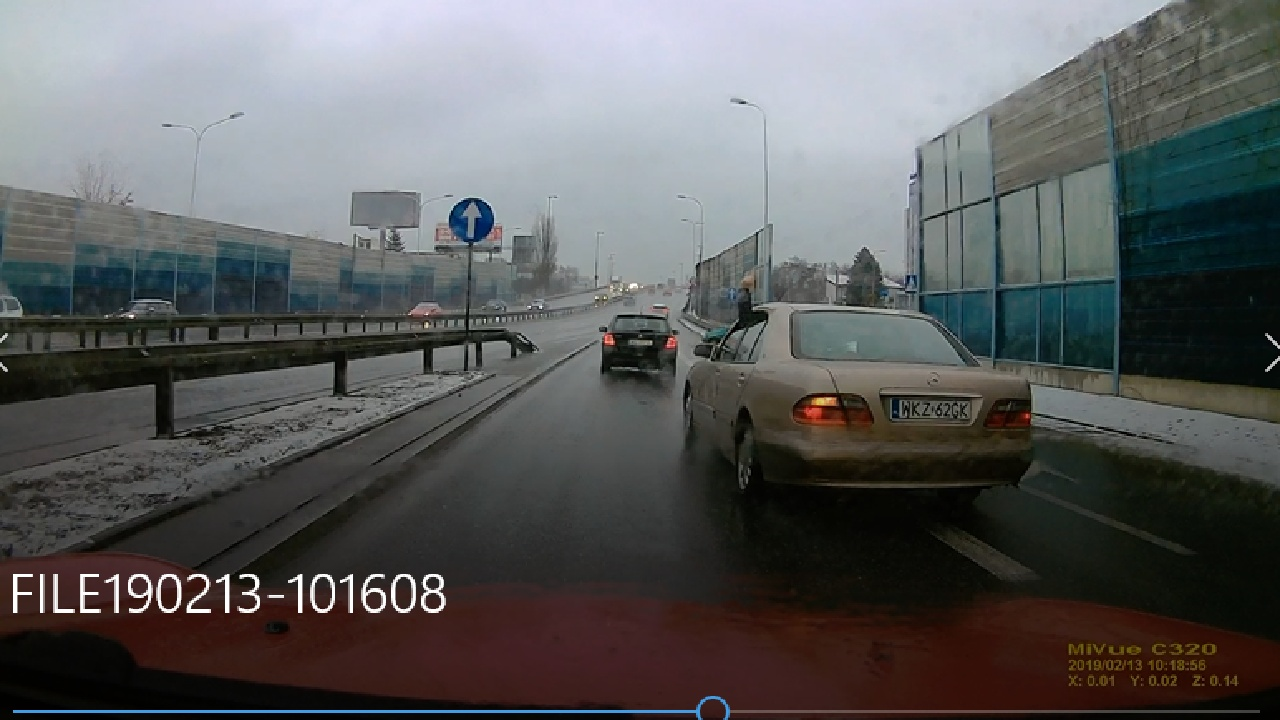C5: (448, 193, 498, 248)
